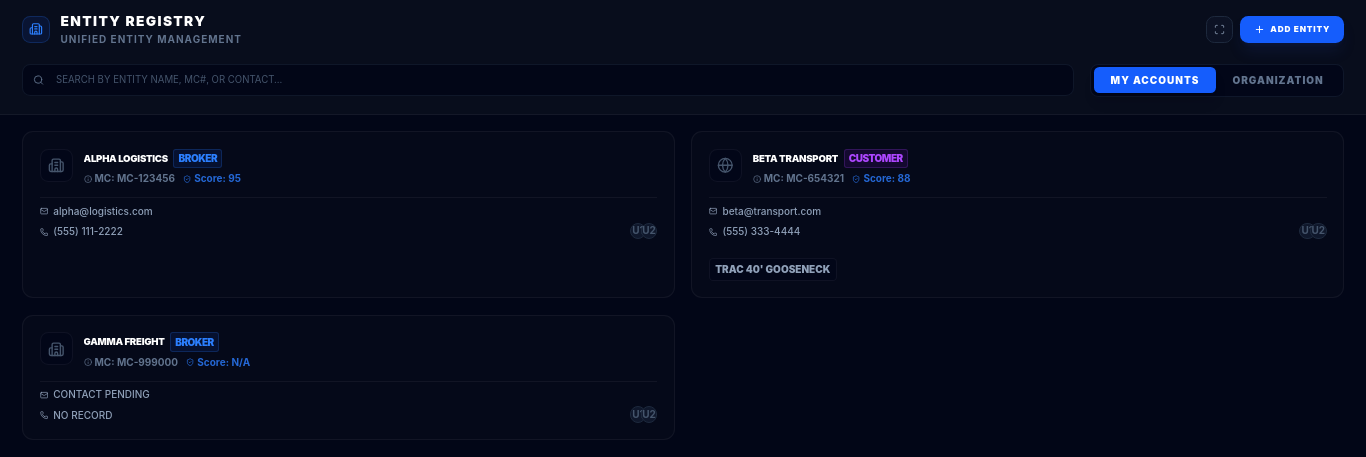
Test: BrokerManager component › search functionality › filters brokers by MC number
The image size is (1366, 457).
Expected: the heading "Alpha Logistics" is shown, [84,152,168,165]
Type "MC-654321" into the field with placeholder "SEARCH BY ENTITY NAME, MC#, OR CONTACT...". click: [548, 80]
box: [22,64,1074,96]
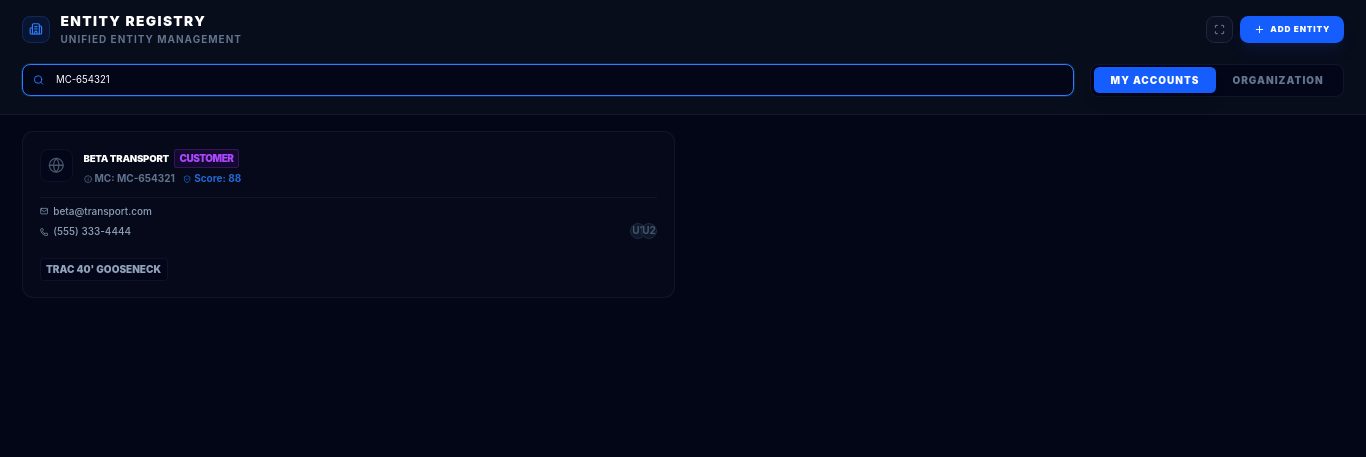
Expected: the heading "Beta Transport" is shown, [84,152,169,165]
Expected: the heading "Alpha Logistics" is gone
